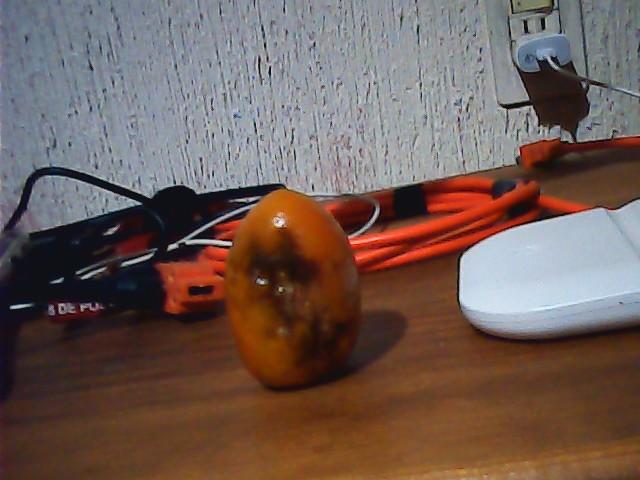defectuoso: (228, 189, 365, 392)
